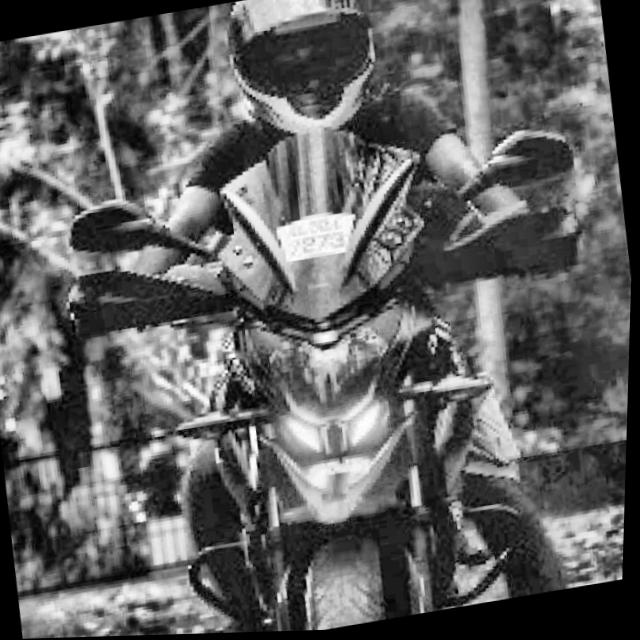motorcycle: (20, 104, 637, 639)
